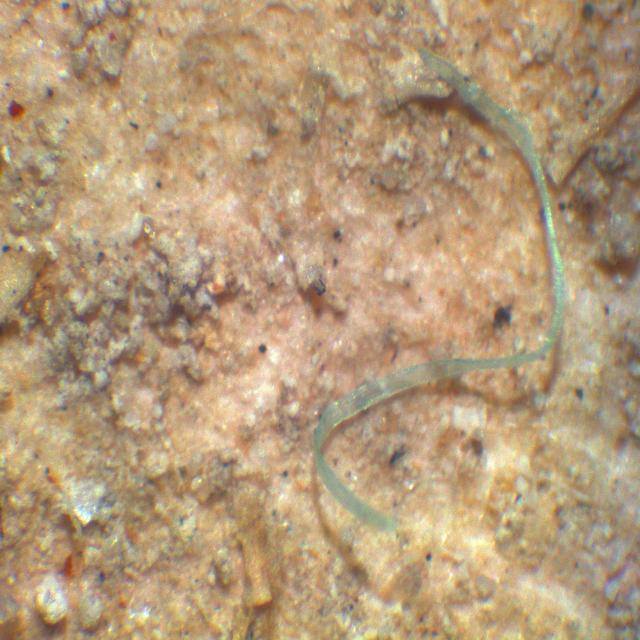microplastic: (313, 47, 567, 449), (313, 449, 391, 533)
